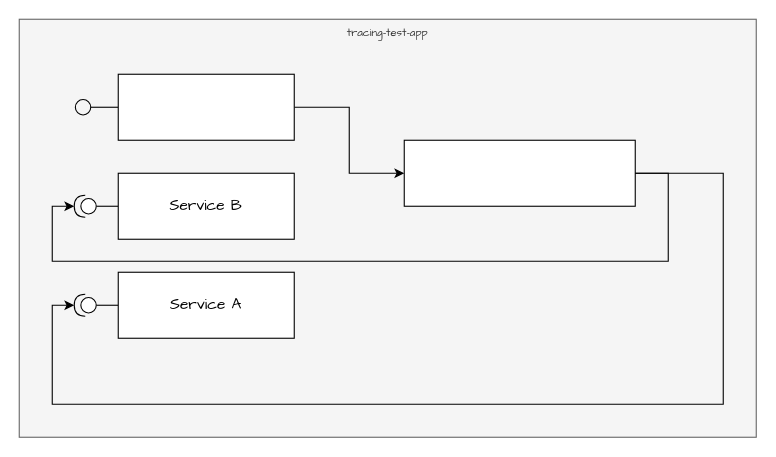
This 776x457 diagram has some shape labels left out. Each missing label, with the centre of its shape:
"BusinessTransaction" belongs at pixel 205 106.
"ServiceOrchestrationRoute" belongs at pixel 519 172.
